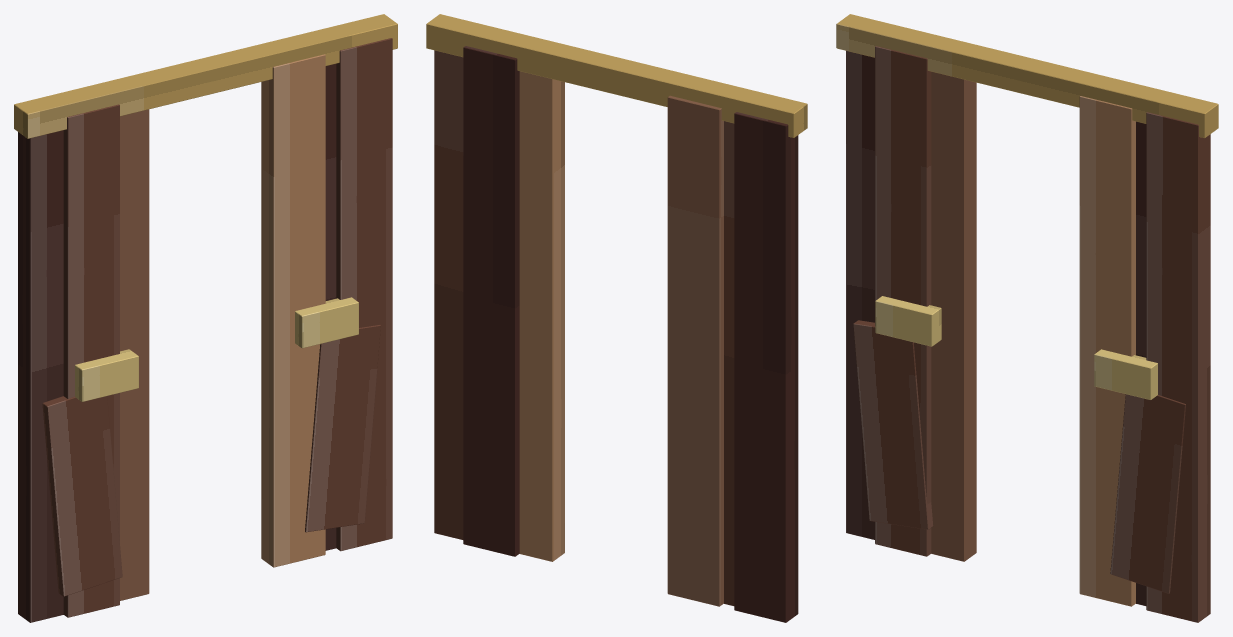
The model's file is heavy_mansion_drapes.glb.
3 renders of one model, left to right at view 1: azimuth 30°, elevation 25°; view 2: azimuth 150°, elevation 25°; view 3: azimuth 330°, elevation 25°, orthographic.
Visible parts, largest first — view 1: DrapeFold_4, DrapeFold_6, DrapeFold_1, DrapeFold_2, DrapeFold_3, DrapeRail, DrapeTailL, DrapeTailR, DrapeFold_5, TiebackR, TiebackL; view 2: DrapeFold_1, DrapeFold_3, DrapeFold_5, DrapeFold_4, DrapeFold_6, DrapeRail, DrapeFold_2; view 3: DrapeFold_6, DrapeFold_4, DrapeFold_3, DrapeFold_2, DrapeRail, DrapeTailL, DrapeTailR, DrapeFold_1, DrapeFold_5, TiebackL, TiebackR.
Boxes of the visible parts, x1=… form: DrapeFold_4: x1=261, y1=54, x2=325, y2=567; DrapeFold_6: x1=336, y1=38, x2=392, y2=551; DrapeFold_1: x1=18, y1=130, x2=63, y2=622; DrapeFold_2: x1=63, y1=104, x2=119, y2=617; DrapeFold_3: x1=120, y1=109, x2=149, y2=600; DrapeRail: x1=14, y1=14, x2=397, y2=138; DrapeTailL: x1=42, y1=396, x2=122, y2=596; DrapeTailR: x1=305, y1=325, x2=380, y2=532; DrapeFold_5: x1=325, y1=64, x2=336, y2=550; TiebackR: x1=295, y1=297, x2=358, y2=348; TiebackL: x1=75, y1=349, x2=138, y2=401; DrapeFold_1: x1=734, y1=112, x2=798, y2=622; DrapeFold_3: x1=667, y1=95, x2=723, y2=606; DrapeFold_5: x1=463, y1=46, x2=519, y2=556; DrapeFold_4: x1=519, y1=71, x2=564, y2=561; DrapeFold_6: x1=434, y1=50, x2=463, y2=539; DrapeRail: x1=426, y1=14, x2=807, y2=137; DrapeFold_2: x1=724, y1=121, x2=734, y2=605; DrapeFold_6: x1=1146, y1=112, x2=1210, y2=622; DrapeFold_4: x1=1079, y1=96, x2=1135, y2=606; DrapeFold_3: x1=931, y1=71, x2=976, y2=561; DrapeFold_2: x1=875, y1=46, x2=931, y2=556; DrapeRail: x1=836, y1=14, x2=1218, y2=138; DrapeTailL: x1=853, y1=320, x2=933, y2=529; DrapeTailR: x1=1110, y1=394, x2=1185, y2=593; DrapeFold_1: x1=846, y1=51, x2=874, y2=539; DrapeFold_5: x1=1136, y1=121, x2=1146, y2=605; TiebackL: x1=875, y1=296, x2=941, y2=346; TiebackR: x1=1094, y1=349, x2=1157, y2=399.
Bounding box in the file's own units: 1.55 × 2.05 × 0.17.
Materials: 1 (1 with a texture image).
